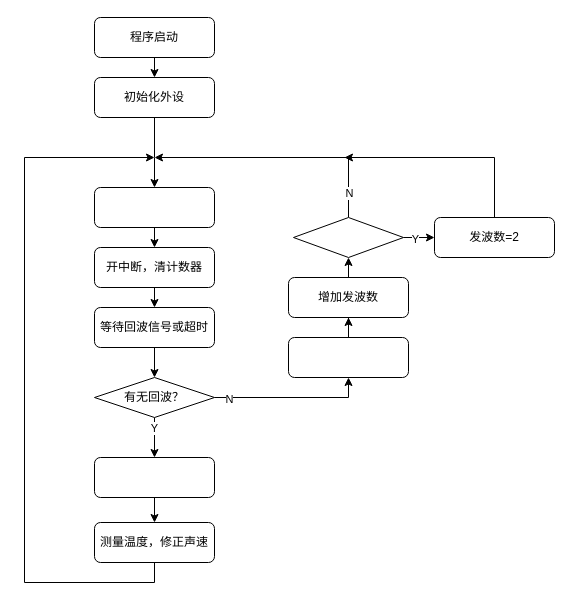
The diagram is 572 pixels wide and 608 high, and some of its shapes have lost their labels. Here are the shapes that lost their labels. From the top down, the centre of each, then its label:
At point (154, 207): "发波，关中断并开定时器".
At point (348, 237): "发波数>512?".
At point (348, 357): "显示无信号".
At point (154, 477): "计算距离，判断显示方式，显示距离".
